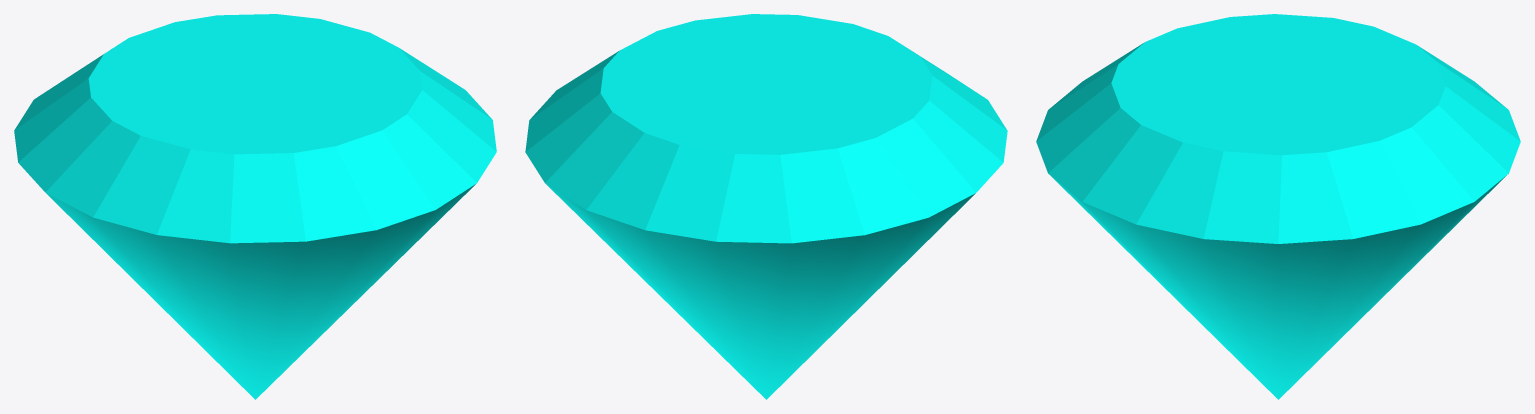
Rendered from heirloom.fbx.
3 renders of one model, left to right at view 1: azimuth 30°, elevation 25°; view 2: azimuth 150°, elevation 25°; view 3: azimuth 270°, elevation 25°, orthographic.
Visible parts, largest first — view 1: pCone1; view 2: pCone1; view 3: pCone1.
Boxes of the visible parts, x1,y1,x2,y2 form: pCone1: (14,14,496,399); pCone1: (525,14,1007,399); pCone1: (1036,14,1520,399).
Bounding box in the file's own units: 2 × 1.44 × 2.
